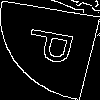P: (24, 25, 86, 68)
